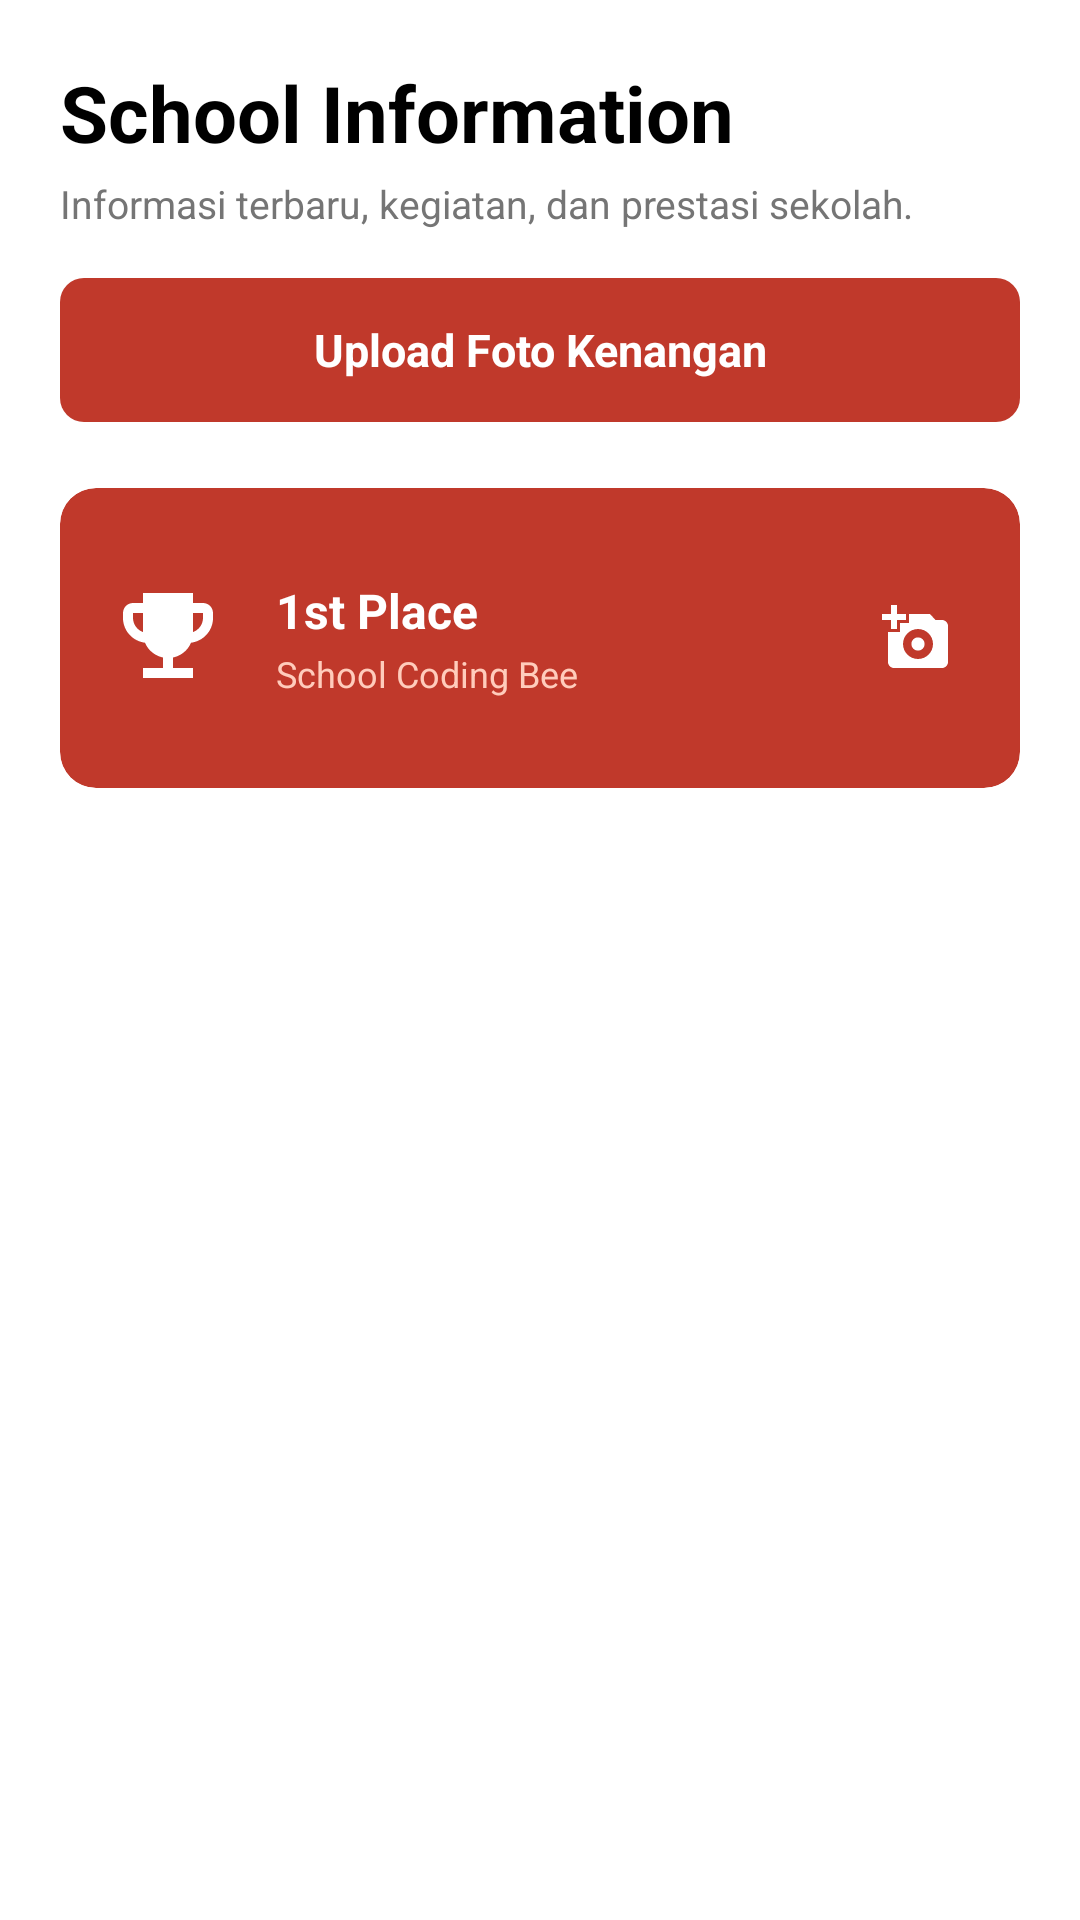

Icons on this 1080×1920 Android screen, each with its box as (x1, y1, x2, y2):
Add photo: (882, 605, 948, 668)
Trophy: (123, 593, 213, 678)
